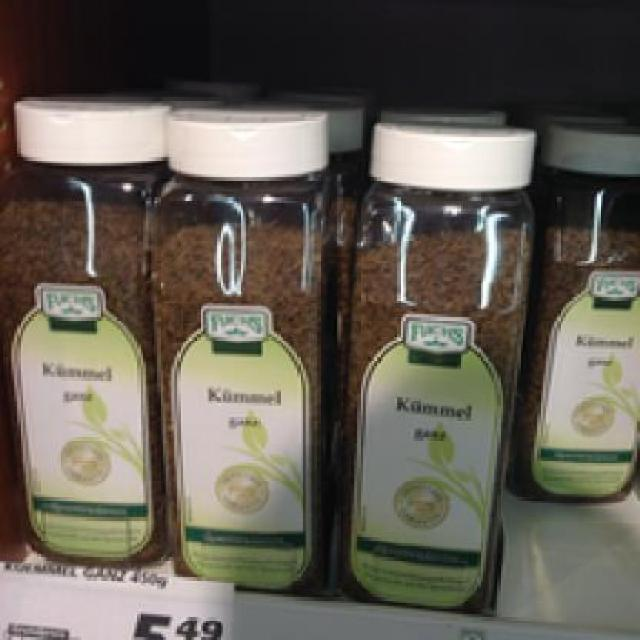Spices: (328, 113, 532, 610), (149, 100, 334, 594), (0, 87, 163, 564), (516, 117, 632, 506)
